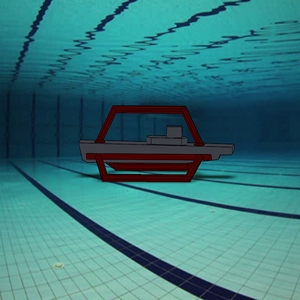submarine: (73, 95, 238, 199)
